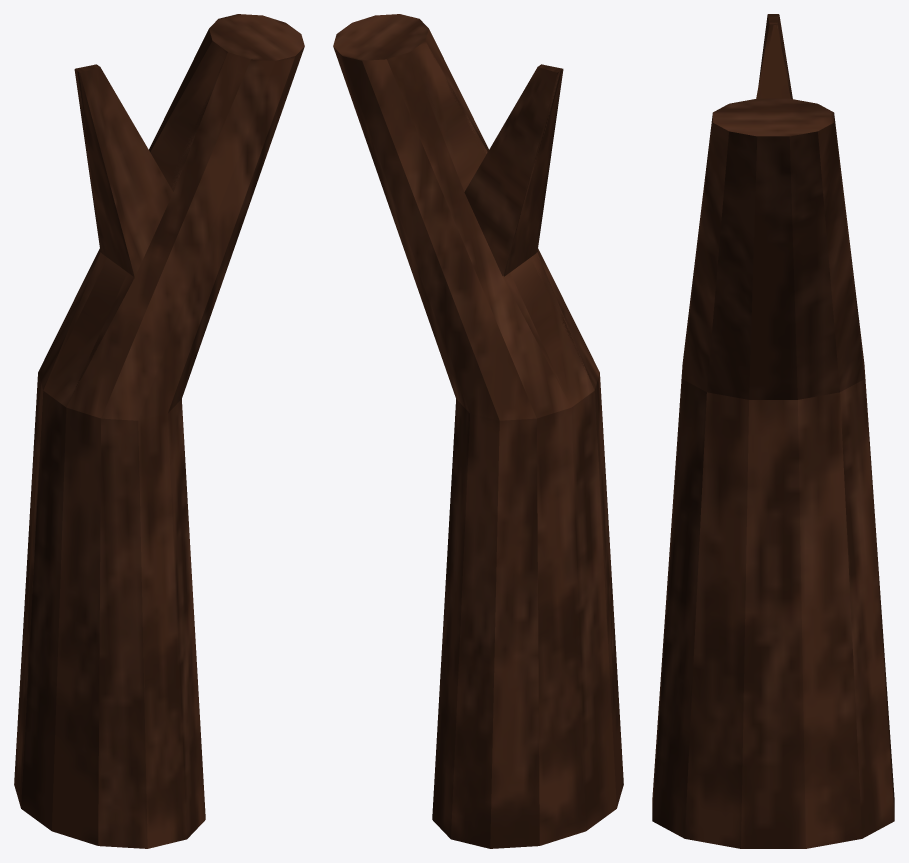
The model's file is tree.fbx.
The picture shows the model from 3 angles, left to right: view 1: azimuth 30°, elevation 25°; view 2: azimuth 150°, elevation 25°; view 3: azimuth 270°, elevation 25°; orthographic projection. The views are drawn at different scales.
Parts seen in each view (by area): view 1: cylinder; view 2: cylinder; view 3: cylinder.
Part boxes in pixels (x1=…): cylinder: x1=14, y1=14, x2=304, y2=848; cylinder: x1=333, y1=14, x2=623, y2=848; cylinder: x1=652, y1=14, x2=894, y2=848.
Size of the model in its own units: 736 by 2020 by 569.
Materials: 1 (1 with a texture image).
